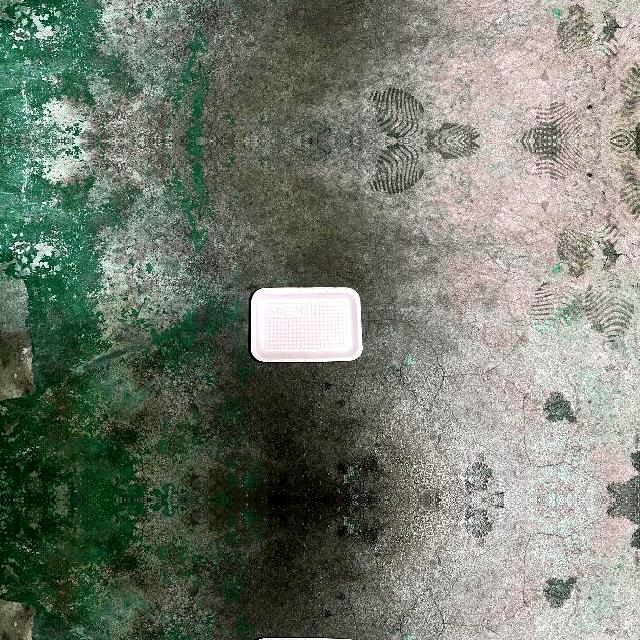Styrofoam: (250, 286, 362, 362), (251, 287, 363, 362)
